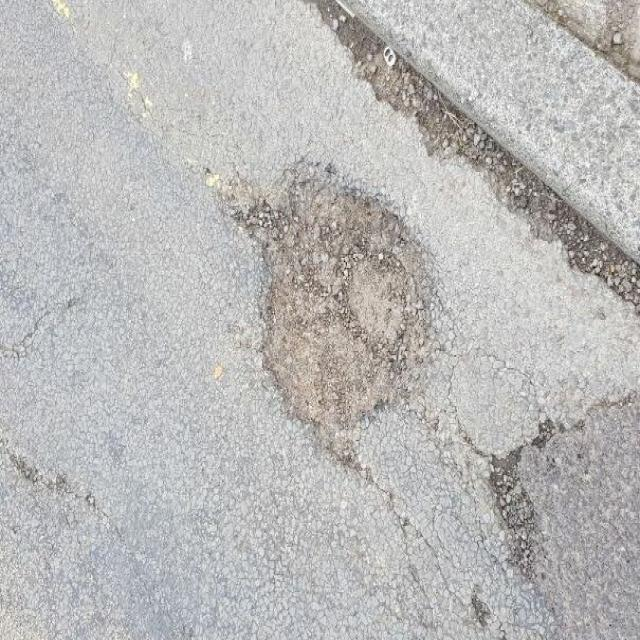pothole: (208, 156, 450, 462)
